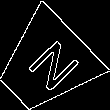N_SW: (13, 33, 77, 97)
